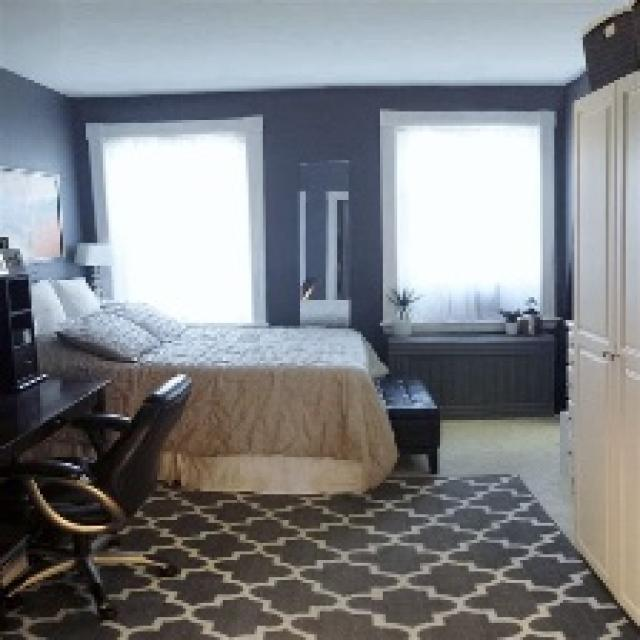Bed: (29, 274, 397, 494)
